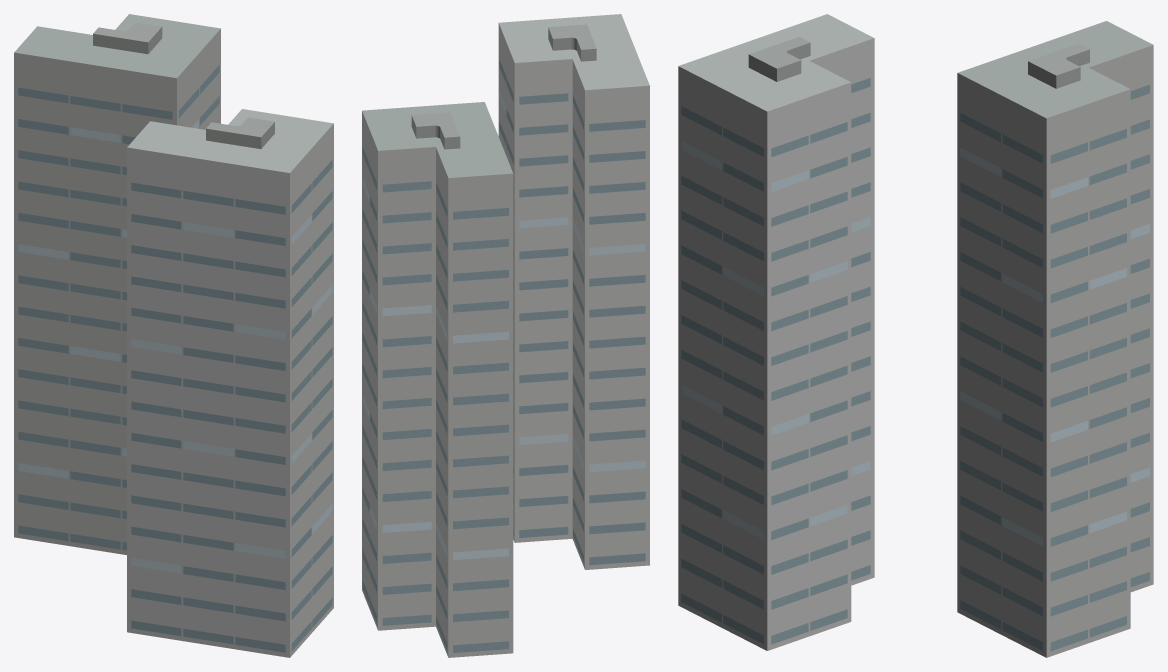
The model's file is apt-a10027849.glb.
3 views of the same model, side by side, from view 1: azimuth 30°, elevation 25°; view 2: azimuth 150°, elevation 25°; view 3: azimuth 270°, elevation 25° (orthographic). The views are drawn at different scales.
Parts seen in each view (by area): view 1: apt-a10027849; view 2: apt-a10027849; view 3: apt-a10027849.
Part boxes in pixels (box(x1,y1,x2,y2)): apt-a10027849: box(14, 14, 333, 657); apt-a10027849: box(362, 14, 649, 657); apt-a10027849: box(678, 14, 1153, 657).
Size of the model in its own units: 40.53 by 100 by 77.97.
